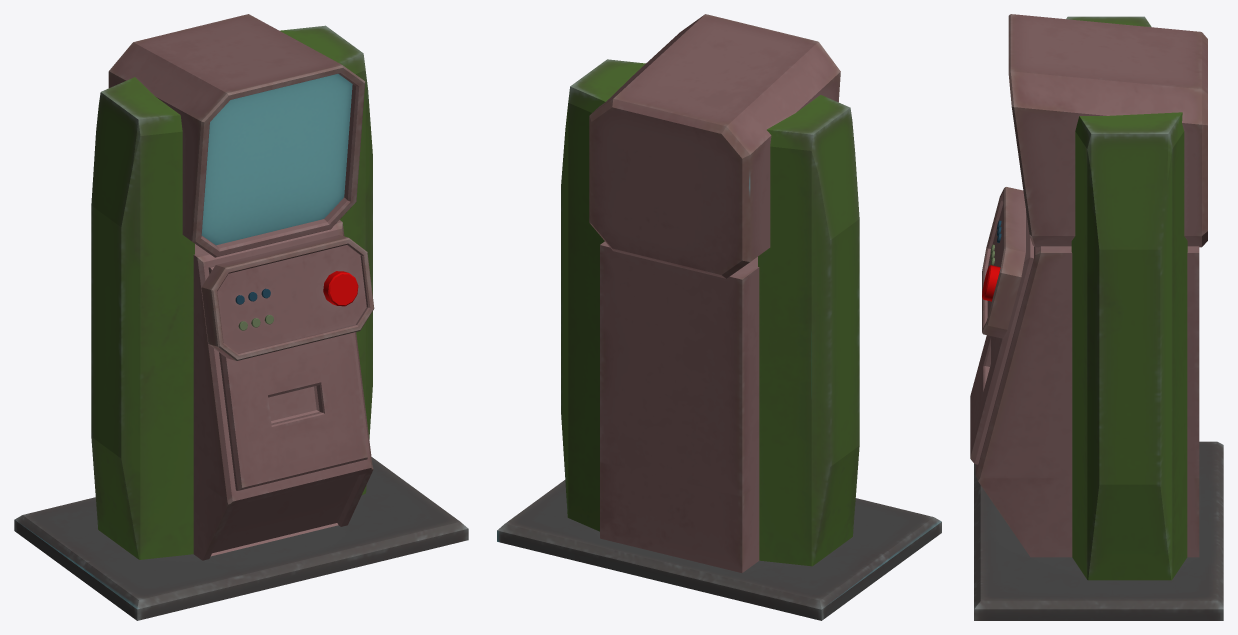
Rendered from Sci fi Computer.fbx.
3 renders of one model, left to right at view 1: azimuth 30°, elevation 25°; view 2: azimuth 150°, elevation 25°; view 3: azimuth 270°, elevation 25°, orthographic. The views are drawn at different scales.
Visible parts, largest first — view 1: Sci fi Computer; view 2: Sci fi Computer; view 3: Sci fi Computer.
Boxes of the visible parts, left/top/right/bottom form: Sci fi Computer: left=14, top=14, right=468, bottom=620; Sci fi Computer: left=497, top=14, right=941, bottom=620; Sci fi Computer: left=970, top=14, right=1223, bottom=620.
Bounding box in the file's own units: 120 × 169 × 78.38.
